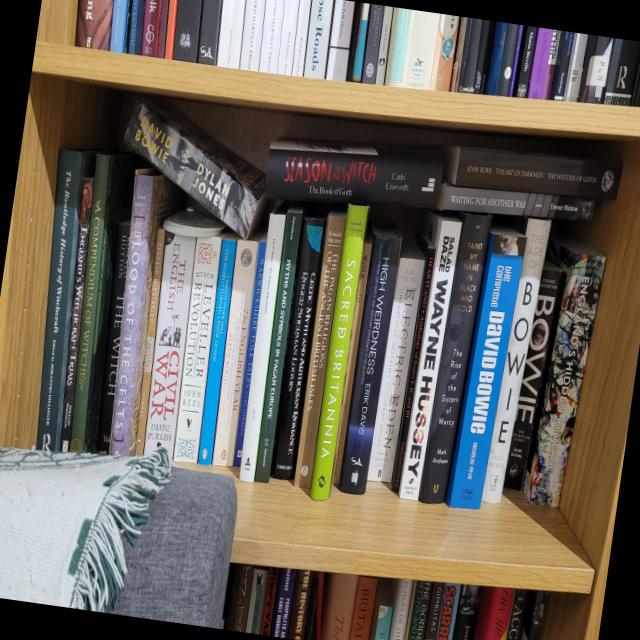book: (49, 147, 144, 455), (110, 85, 286, 241), (97, 166, 187, 459), (512, 238, 607, 510), (443, 227, 528, 512), (23, 147, 97, 452), (387, 212, 463, 501), (418, 212, 492, 507), (478, 218, 551, 506), (336, 224, 404, 495), (309, 203, 369, 501), (269, 210, 328, 480), (292, 207, 348, 489), (365, 244, 428, 485), (502, 259, 564, 492), (237, 206, 288, 484), (253, 206, 304, 483), (264, 137, 445, 210), (141, 231, 198, 459), (172, 234, 223, 464), (330, 228, 374, 486), (440, 144, 623, 204), (211, 239, 259, 467), (58, 177, 95, 453), (197, 235, 238, 466), (96, 220, 132, 454), (233, 233, 268, 468), (134, 228, 167, 457), (436, 180, 530, 223)
